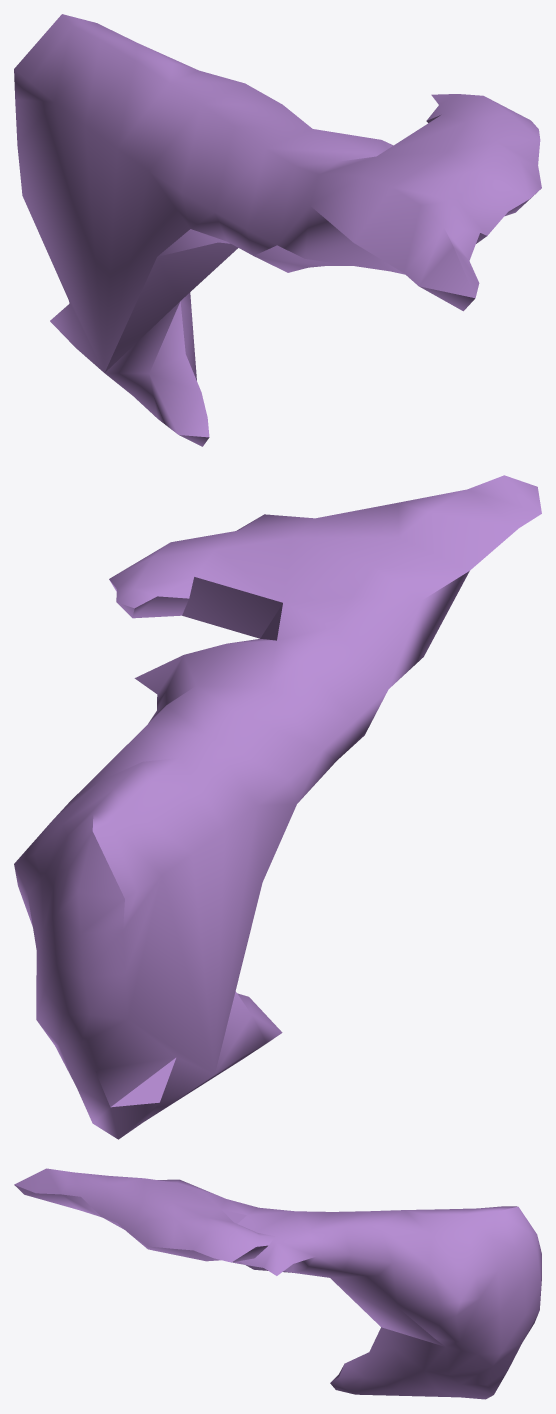
File: spl-343.glb
The picture shows the model from 3 angles, top to bottom: view 1: azimuth 30°, elevation 25°; view 2: azimuth 150°, elevation 25°; view 3: azimuth 270°, elevation 25°; orthographic projection. The views are drawn at different scales.
Visible parts, largest first — view 1: spl-343; view 2: spl-343; view 3: spl-343.
Part boxes in pixels (x1,y1,x2,y2): spl-343: (14,14,541,446); spl-343: (14,475,541,1139); spl-343: (14,1168,541,1399).
Size of the model in its own units: 4.96 by 6.78 by 14.2.
